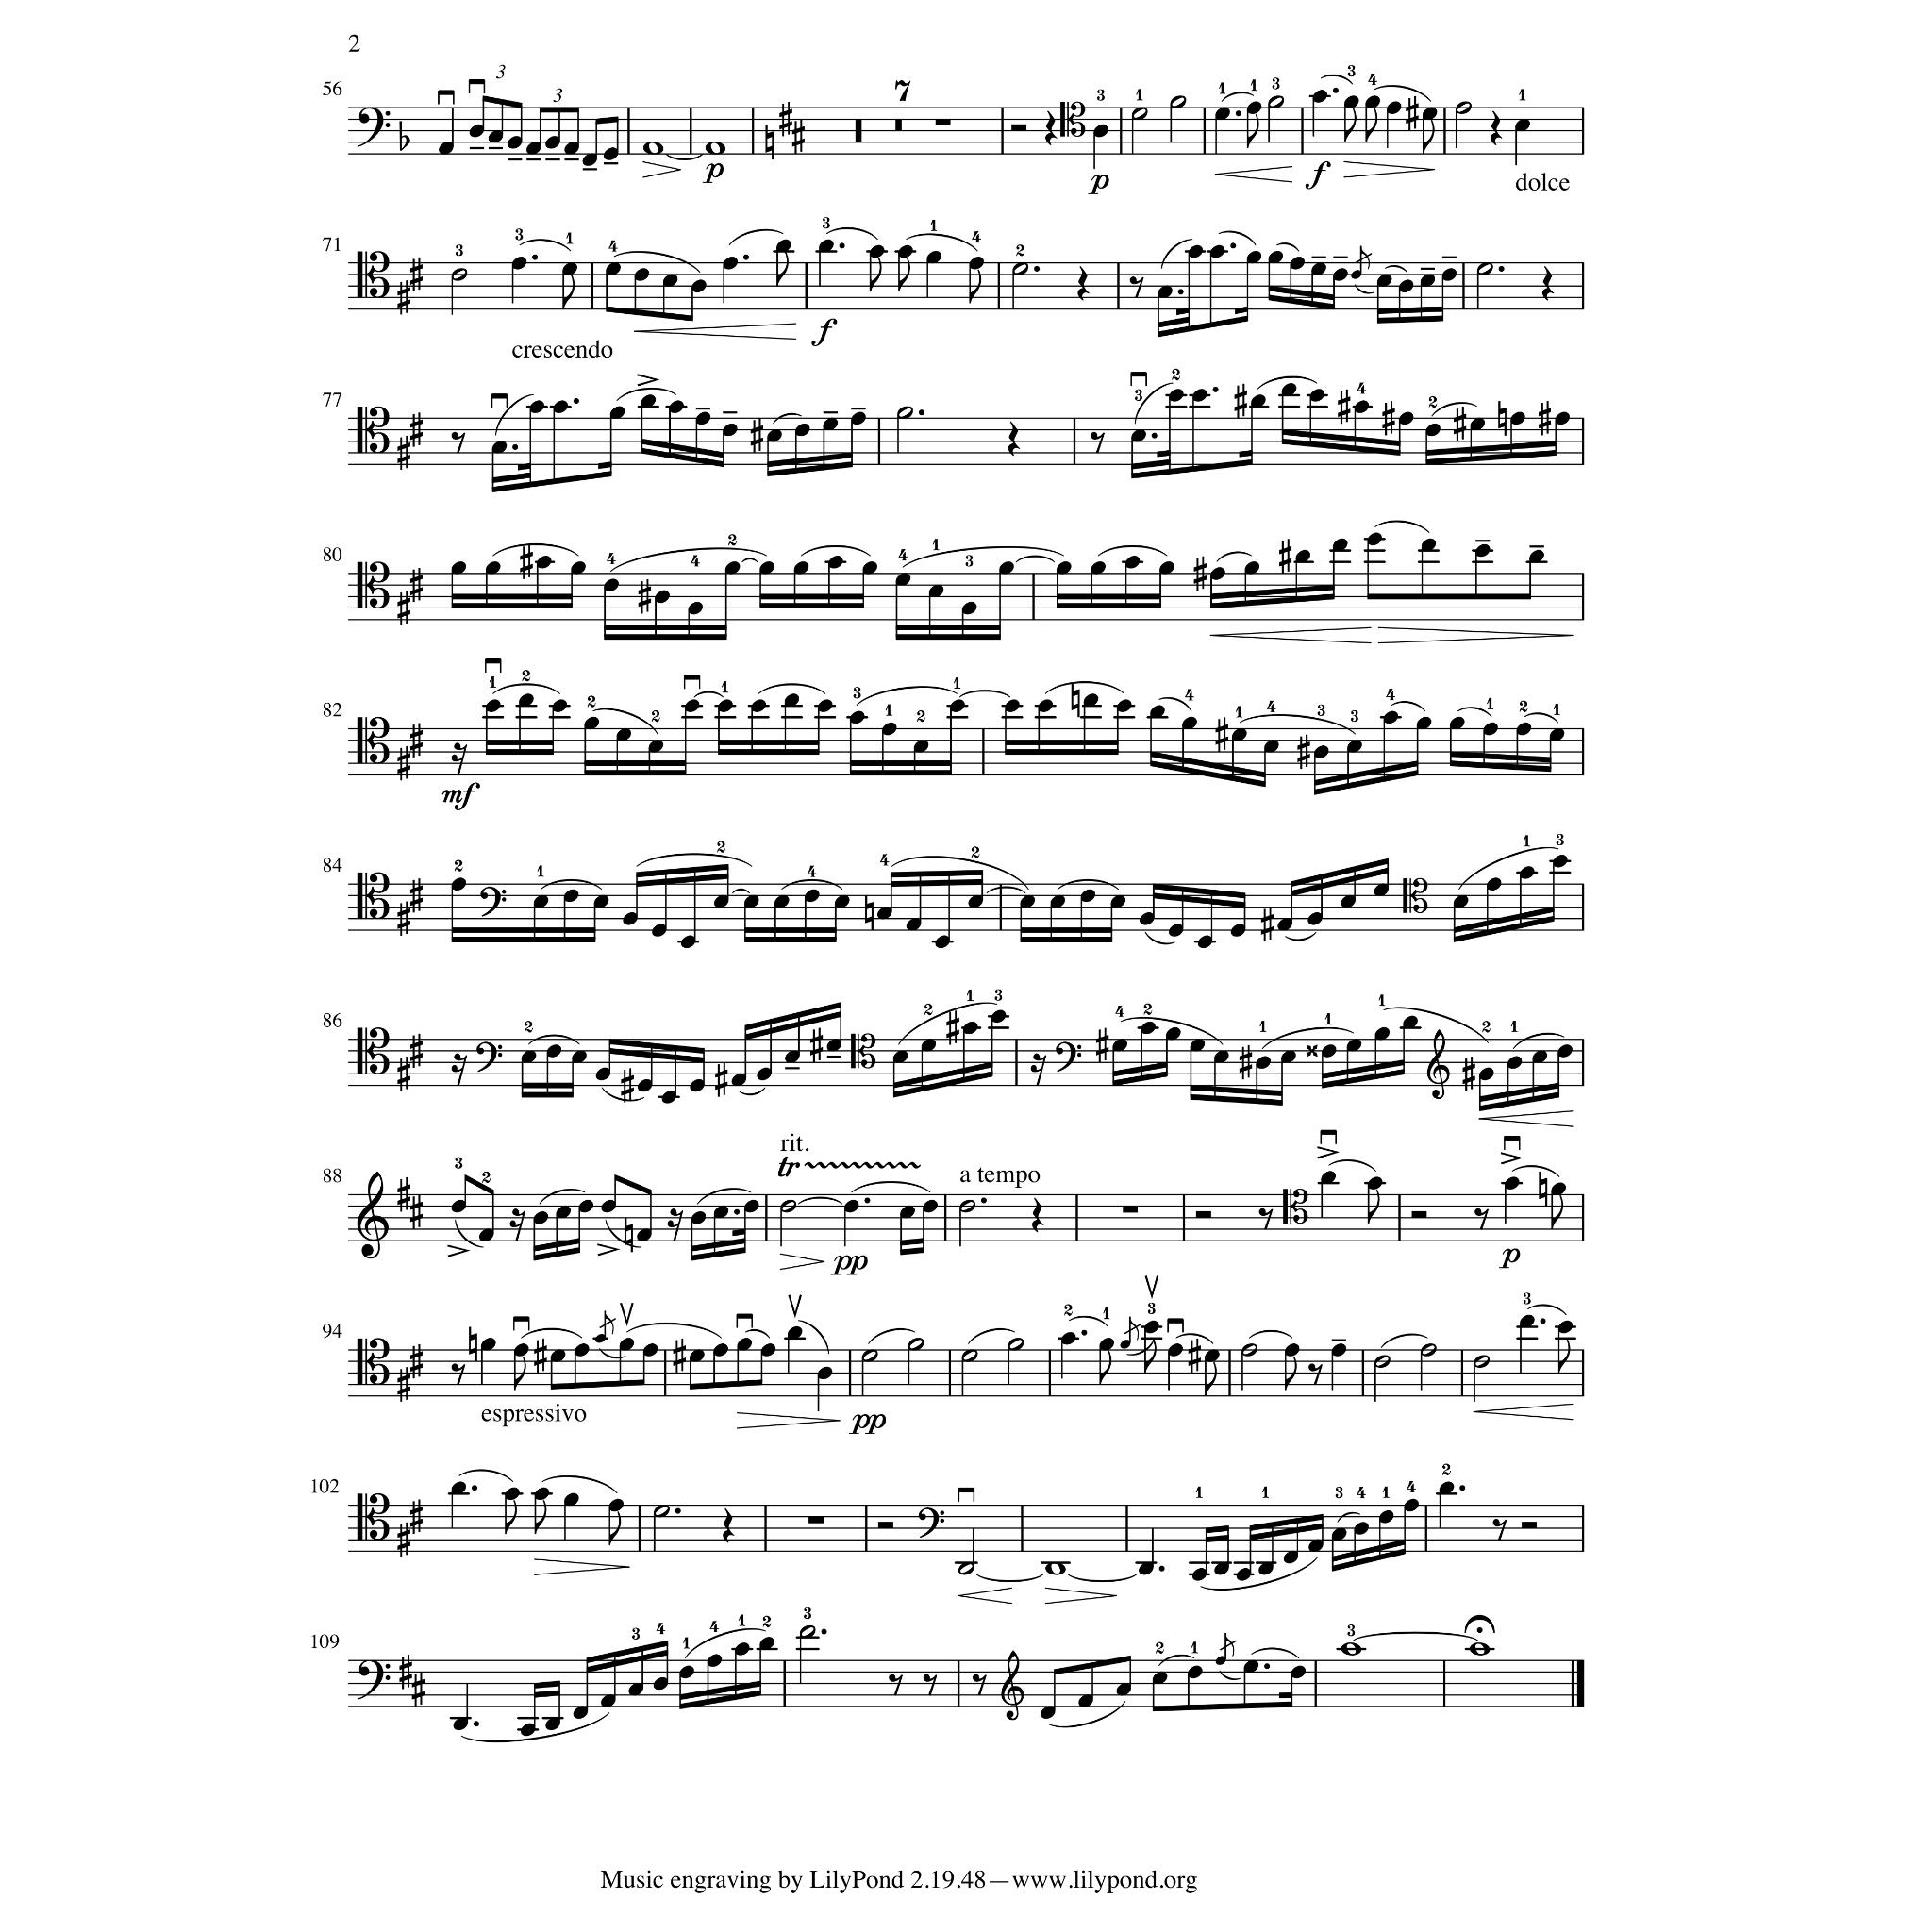fClef: (357, 108, 391, 147), (357, 1660, 391, 1700)
flag8thDown: (1551, 1194, 1564, 1230), (1343, 108, 1357, 142), (562, 275, 575, 309), (775, 252, 789, 286), (513, 1357, 526, 1391), (534, 1500, 547, 1534), (1247, 113, 1258, 149), (1366, 108, 1377, 142), (1423, 120, 1434, 154), (898, 258, 909, 292), (870, 258, 881, 292), (970, 270, 981, 304), (1368, 1190, 1379, 1224), (1206, 1362, 1217, 1396), (1285, 1357, 1296, 1391), (1145, 1339, 1157, 1373), (1100, 1351, 1111, 1385), (1558, 1339, 1570, 1373), (609, 1511, 621, 1545), (506, 1500, 517, 1534)
flag8thUp: (1123, 1309, 1141, 1341), (598, 1304, 617, 1336), (1219, 1626, 1238, 1657), (1355, 240, 1372, 270)
gClef: (357, 1171, 389, 1259)
noteheadBlack: (1311, 89, 1328, 104), (1509, 411, 1526, 426), (694, 411, 711, 426), (491, 440, 508, 455), (849, 411, 866, 426), (1366, 532, 1383, 547), (1474, 543, 1491, 558), (894, 572, 911, 587), (517, 692, 534, 708), (783, 692, 800, 708), (1168, 923, 1185, 938), (1049, 894, 1066, 909), (1109, 894, 1126, 909), (1340, 894, 1357, 909), (1019, 894, 1036, 909), (651, 923, 668, 938), (743, 894, 760, 909), (592, 894, 609, 909), (532, 894, 549, 909), (1255, 1055, 1272, 1070), (1164, 1026, 1181, 1041), (1374, 1026, 1391, 1041), (1307, 1538, 1324, 1553), (1377, 1509, 1394, 1524), (1398, 279, 1413, 294), (691, 279, 706, 294), (1555, 411, 1570, 426), (1398, 411, 1413, 426), (1083, 692, 1098, 708), (1230, 923, 1245, 938), (1453, 894, 1468, 909), (713, 894, 728, 909), (968, 894, 983, 909), (774, 894, 789, 909), (834, 894, 849, 909), (1507, 1055, 1522, 1070), (1245, 102, 1262, 115), (1421, 108, 1438, 121), (1385, 102, 1402, 115), (1364, 96, 1381, 109), (525, 142, 541, 155), (602, 148, 619, 161), (581, 154, 598, 167), (506, 136, 523, 149), (487, 130, 504, 143), (468, 125, 485, 138), (1092, 125, 1109, 138), (1245, 251, 1262, 264), (1289, 257, 1306, 270), (1187, 245, 1204, 258), (1157, 286, 1174, 299), (1419, 274, 1436, 287), (1375, 274, 1392, 287), (604, 262, 621, 275), (968, 257, 985, 270), (868, 245, 885, 258), (1353, 401, 1370, 414), (1168, 389, 1185, 402), (1130, 429, 1147, 442), (1424, 424, 1441, 437), (640, 394, 657, 408), (528, 401, 545, 414), (766, 429, 783, 442), (1294, 550, 1311, 563), (1243, 561, 1260, 575), (998, 561, 1015, 575), (1055, 561, 1072, 575), (1528, 550, 1545, 563), (570, 561, 587, 575), (687, 602, 704, 615), (826, 556, 843, 569), (960, 602, 977, 615), (758, 561, 775, 575), (792, 561, 809, 575), (1230, 728, 1247, 741), (1313, 745, 1330, 758), (1149, 706, 1166, 719), (1115, 700, 1132, 713), (1449, 717, 1466, 730), (1415, 717, 1432, 730), (1515, 723, 1532, 736), (583, 717, 600, 730), (615, 728, 632, 741), (551, 700, 568, 713), (717, 700, 734, 713), (683, 700, 700, 713), (647, 740, 664, 753), (1004, 700, 1021, 713), (1196, 936, 1213, 949), (1138, 912, 1155, 925), (1079, 890, 1096, 903), (679, 936, 696, 949), (562, 890, 579, 903), (934, 936, 951, 949), (875, 907, 892, 920), (1213, 1050, 1230, 1063), (1189, 1039, 1206, 1052), (1321, 1044, 1338, 1058), (1111, 1039, 1128, 1052), (1140, 1022, 1157, 1035), (1557, 1044, 1574, 1058), (1402, 1016, 1419, 1029), (1345, 1039, 1362, 1052), (636, 1079, 653, 1092), (730, 1074, 747, 1087), (689, 1079, 706, 1092), (660, 1091, 677, 1104), (545, 1044, 562, 1058), (783, 1050, 800, 1063), (1366, 1177, 1383, 1191), (577, 1200, 594, 1213), (600, 1200, 617, 1213), (555, 1206, 572, 1219), (532, 1211, 549, 1224), (636, 1228, 653, 1241), (477, 1228, 494, 1241), (843, 1200, 860, 1213), (921, 1200, 938, 1213), (743, 1200, 760, 1213), (1204, 1349, 1221, 1362), (1166, 1343, 1183, 1357), (1060, 1332, 1077, 1345), (1098, 1338, 1115, 1351), (1557, 1321, 1574, 1334), (1330, 1343, 1347, 1357), (641, 1343, 658, 1357), (549, 1349, 566, 1362), (479, 1338, 496, 1351), (736, 1338, 753, 1351), (1353, 1522, 1370, 1535), (1330, 1527, 1347, 1541), (1191, 1568, 1207, 1581), (1213, 1562, 1230, 1575), (1438, 1481, 1455, 1494), (608, 1499, 625, 1512), (1151, 1672, 1168, 1685), (1115, 1683, 1132, 1696), (1040, 1706, 1057, 1719), (1077, 1694, 1094, 1707), (600, 1694, 617, 1707), (572, 1706, 589, 1719), (758, 1637, 775, 1650), (706, 1654, 723, 1667), (1343, 96, 1358, 109), (1215, 108, 1230, 121), (1515, 119, 1530, 132), (564, 142, 579, 155), (545, 136, 560, 149), (438, 142, 453, 155), (1268, 251, 1283, 264), (1332, 269, 1347, 282), (1311, 262, 1326, 275), (1209, 245, 1224, 258), (1441, 269, 1457, 282), (634, 269, 649, 282), (723, 257, 738, 270), (662, 274, 677, 287), (562, 262, 577, 275), (511, 257, 526, 270), (926, 251, 941, 264), (898, 245, 913, 258), (819, 240, 834, 253), (776, 240, 791, 253), (1251, 394, 1266, 408), (1192, 389, 1207, 402), (1309, 389, 1324, 402), (1281, 383, 1296, 396), (1470, 418, 1485, 431), (668, 401, 683, 414), (723, 424, 738, 437), (553, 401, 568, 414), (609, 407, 625, 420), (794, 424, 809, 437), (823, 418, 838, 431), (1124, 556, 1140, 569), (1159, 561, 1174, 575), (1209, 567, 1224, 580), (1091, 561, 1106, 575), (1421, 539, 1436, 552), (1332, 539, 1347, 552), (604, 579, 619, 592), (655, 591, 670, 604), (451, 561, 466, 575), (485, 561, 500, 575), (536, 556, 551, 569), (862, 561, 877, 575), (928, 585, 943, 598), (724, 561, 740, 575), (1264, 740, 1279, 753), (1347, 740, 1362, 753), (1038, 700, 1053, 713), (1182, 717, 1197, 730), (1549, 728, 1564, 741), (1383, 711, 1398, 724), (1483, 723, 1498, 736), (485, 700, 500, 713), (881, 723, 896, 736), (913, 740, 928, 753), (849, 711, 864, 724), (949, 700, 964, 713), (751, 700, 766, 713), (817, 700, 832, 713), (1307, 912, 1323, 925), (1277, 918, 1292, 931), (1553, 855, 1568, 868), (1374, 884, 1389, 897), (1519, 866, 1534, 879), (1487, 877, 1502, 891), (451, 877, 466, 891), (623, 912, 638, 925), (906, 918, 921, 931), (804, 890, 819, 903), (1281, 1050, 1296, 1063), (1532, 1050, 1547, 1063), (1479, 1068, 1494, 1081), (595, 1068, 610, 1081), (572, 1050, 587, 1063), (521, 1050, 536, 1063), (921, 1039, 936, 1052), (892, 1050, 908, 1063), (991, 1010, 1006, 1024), (962, 1022, 977, 1035), (826, 1039, 841, 1052), (757, 1068, 772, 1081), (1321, 1171, 1336, 1184), (1551, 1183, 1566, 1196), (1504, 1177, 1519, 1191), (451, 1200, 466, 1213), (900, 1206, 915, 1219), (691, 1211, 706, 1224), (713, 1206, 728, 1219), (1285, 1343, 1300, 1357), (1143, 1321, 1158, 1334), (1519, 1315, 1534, 1328), (619, 1338, 634, 1351), (574, 1343, 589, 1357), (689, 1349, 704, 1362), (513, 1343, 528, 1357), (817, 1367, 832, 1380), (713, 1343, 728, 1357), (787, 1326, 802, 1340), (760, 1343, 775, 1357), (1283, 1551, 1298, 1564), (1258, 1562, 1274, 1575), (1236, 1568, 1251, 1581), (1404, 1499, 1419, 1512), (451, 1481, 466, 1494), (504, 1488, 519, 1501), (564, 1493, 579, 1507), (534, 1488, 549, 1501), (1138, 1562, 1153, 1575), (1243, 1660, 1258, 1674), (1187, 1666, 1202, 1679), (1291, 1666, 1306, 1679), (628, 1683, 643, 1696), (653, 1677, 668, 1690), (679, 1666, 694, 1679), (453, 1718, 468, 1731), (521, 1723, 536, 1736), (545, 1718, 560, 1731), (734, 1642, 749, 1656), (1215, 1655, 1226, 1666), (1350, 270, 1361, 279), (1120, 1340, 1131, 1349), (594, 1334, 606, 1343)
noteheadHalf: (1267, 96, 1284, 109), (1170, 96, 1187, 109), (1131, 108, 1148, 121), (1455, 102, 1472, 115), (1476, 262, 1493, 275), (451, 269, 468, 282), (1011, 262, 1028, 275), (896, 407, 913, 420), (958, 1200, 975, 1213), (779, 1200, 796, 1213), (1241, 1343, 1257, 1357), (1007, 1338, 1024, 1351), (1374, 1355, 1391, 1368), (1473, 1355, 1490, 1368), (1420, 1343, 1437, 1357), (861, 1349, 878, 1362), (961, 1349, 978, 1362), (908, 1338, 924, 1351), (653, 1505, 670, 1518), (958, 1562, 974, 1575), (799, 1625, 816, 1639)
noteheadWhole: (641, 142, 664, 157), (704, 142, 726, 157), (1340, 1641, 1362, 1657), (1468, 1641, 1491, 1657), (1043, 1562, 1066, 1575)
rest16th: (450, 1053, 467, 1087), (1029, 1053, 1046, 1087), (450, 743, 467, 775), (667, 1209, 684, 1241), (508, 1209, 525, 1241)
rest8th: (1129, 276, 1144, 299), (1090, 432, 1105, 455), (450, 432, 465, 455), (1257, 1208, 1273, 1231), (1474, 1208, 1489, 1231), (1307, 1363, 1323, 1386), (450, 1363, 465, 1386), (1492, 1519, 1507, 1541), (972, 1674, 987, 1696), (888, 1674, 903, 1696), (923, 1674, 938, 1696)
restHNr: (894, 79, 911, 104)
restHalf: (1194, 1211, 1211, 1219), (1521, 1522, 1538, 1529), (877, 1522, 894, 1529), (1011, 125, 1026, 132), (1411, 1211, 1426, 1219)
restQuarter: (1541, 266, 1555, 302), (1008, 421, 1021, 457), (1077, 266, 1089, 302), (1032, 1197, 1043, 1233), (723, 1507, 734, 1543), (1491, 111, 1502, 145), (1045, 111, 1057, 145)
restWhole: (855, 119, 951, 143), (808, 1516, 824, 1524), (1123, 1206, 1138, 1213)
